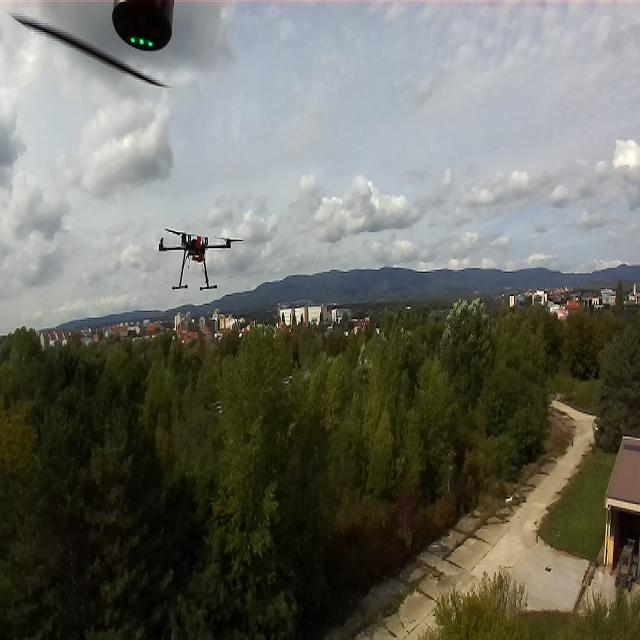UAV: (150, 220, 244, 294)
